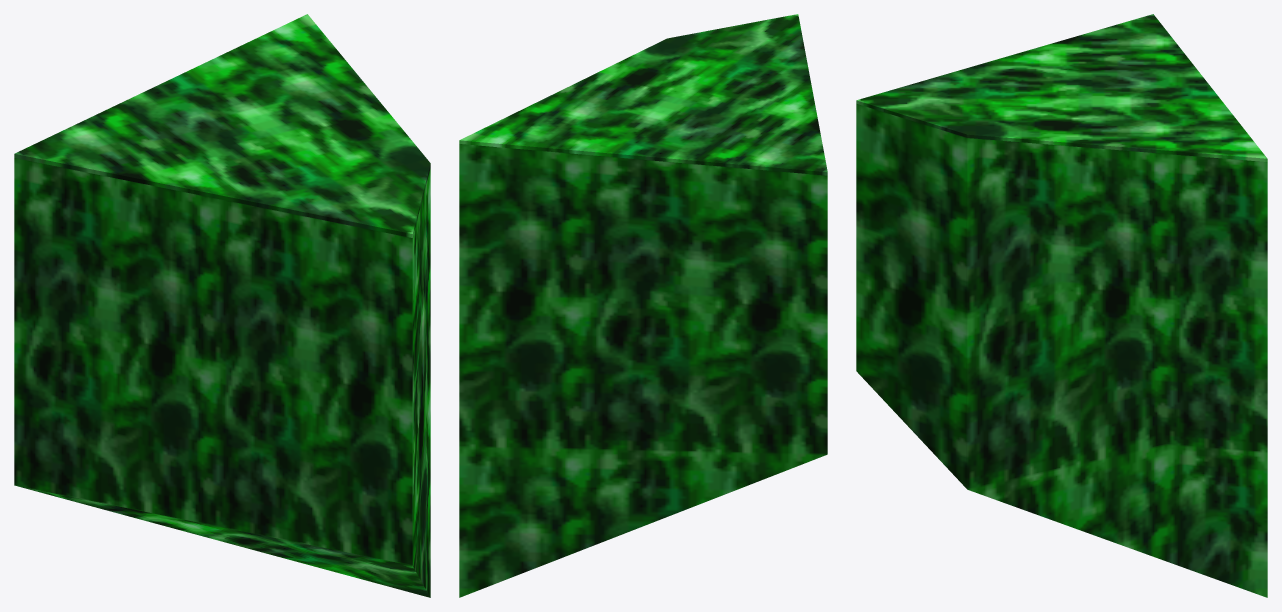
3 renders of one model, left to right at view 1: azimuth 30°, elevation 25°; view 2: azimuth 150°, elevation 25°; view 3: azimuth 270°, elevation 25°, orthographic. The views are drawn at different scales.
Parts seen in each view (by area): view 1: kb3_c; view 2: kb3_c; view 3: kb3_c.
Part boxes in pixels (<box>): kb3_c: <box>14,14,430,597</box>; kb3_c: <box>459,14,827,597</box>; kb3_c: <box>856,14,1267,597</box>.
Bounding box in the file's own units: 3.6 × 5.1 × 4.33.
1 material, 1 textured.
